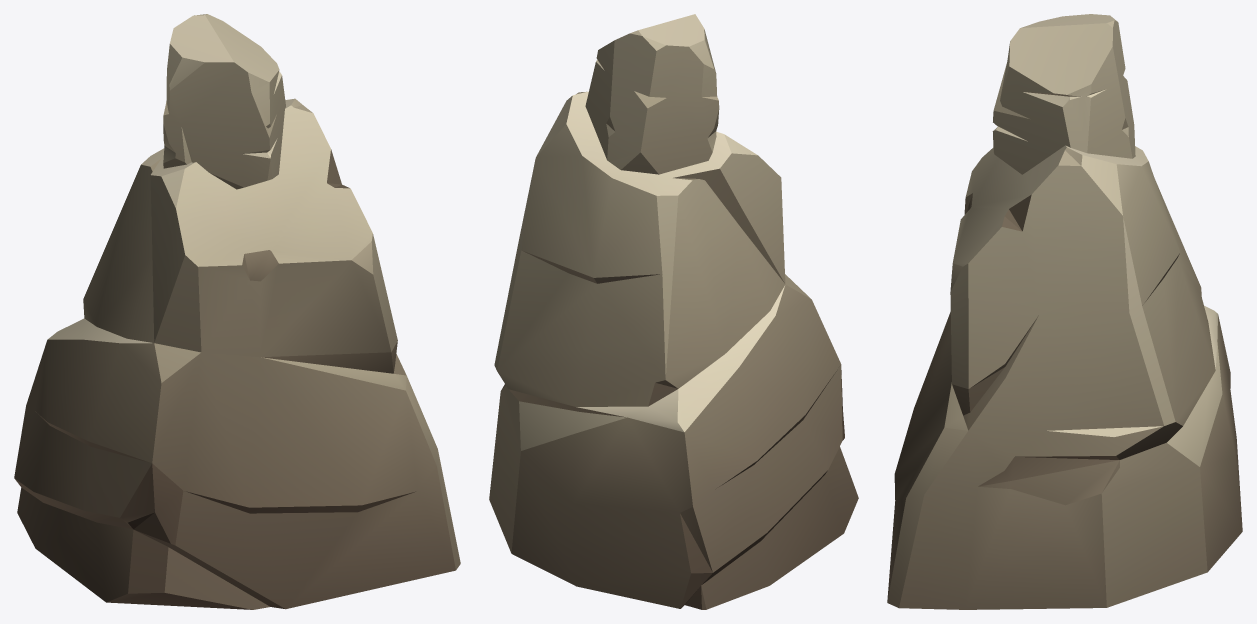
File: Rock_Boulder_2B.fbx
The picture shows the model from 3 angles, left to right: view 1: azimuth 30°, elevation 25°; view 2: azimuth 150°, elevation 25°; view 3: azimuth 270°, elevation 25°; orthographic projection.
Parts seen in each view (by area): view 1: Rock_Boulder_2B; view 2: Rock_Boulder_2B; view 3: Rock_Boulder_2B.
Part boxes in pixels (x1,y1,x2,y2): Rock_Boulder_2B: (14,14,460,609); Rock_Boulder_2B: (489,14,858,609); Rock_Boulder_2B: (887,14,1242,609).
Bounding box in the file's own units: 710 × 1114 × 701.
